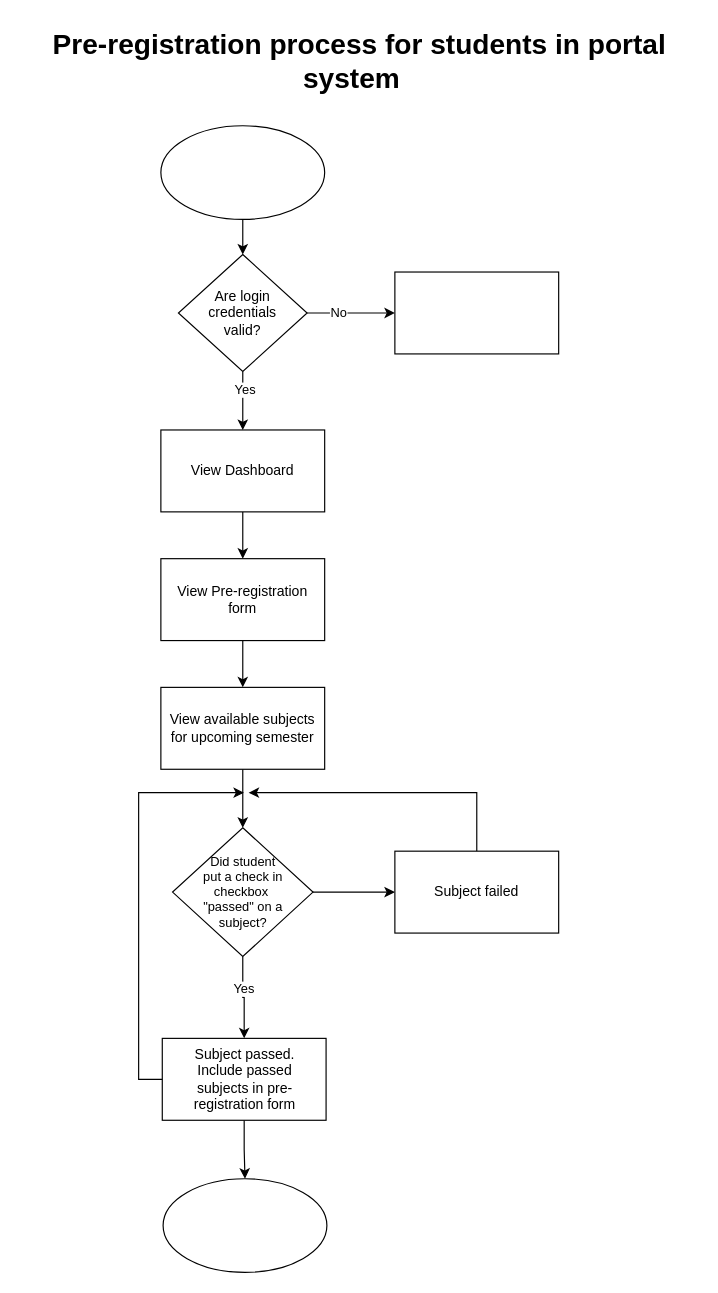
Image size: 718x1293. Some labels were removed from this diagram. The shapes that lost their labels are listed below. From the top down, each one's centre as x and y in pixels, then its label:
[242,172]: Login to the system as student
[476,312]: Show error message: "Incorrect username/password"
[244,1225]: Submit pre-registration form
